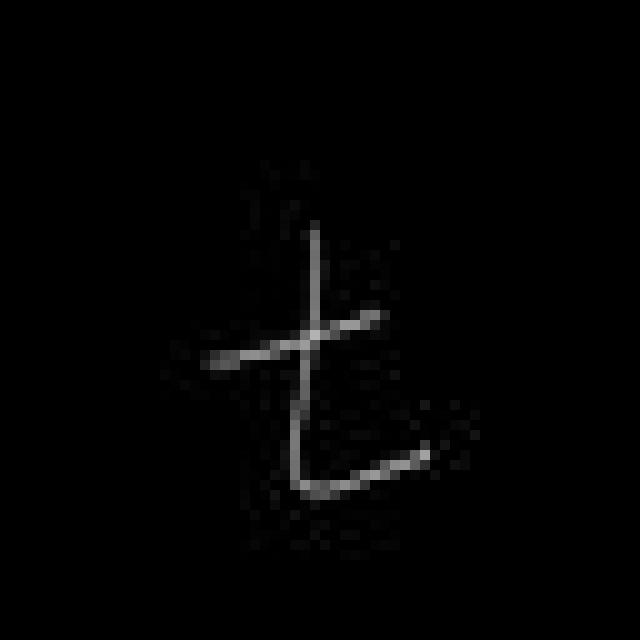7 -seven-: (208, 210, 441, 506)
